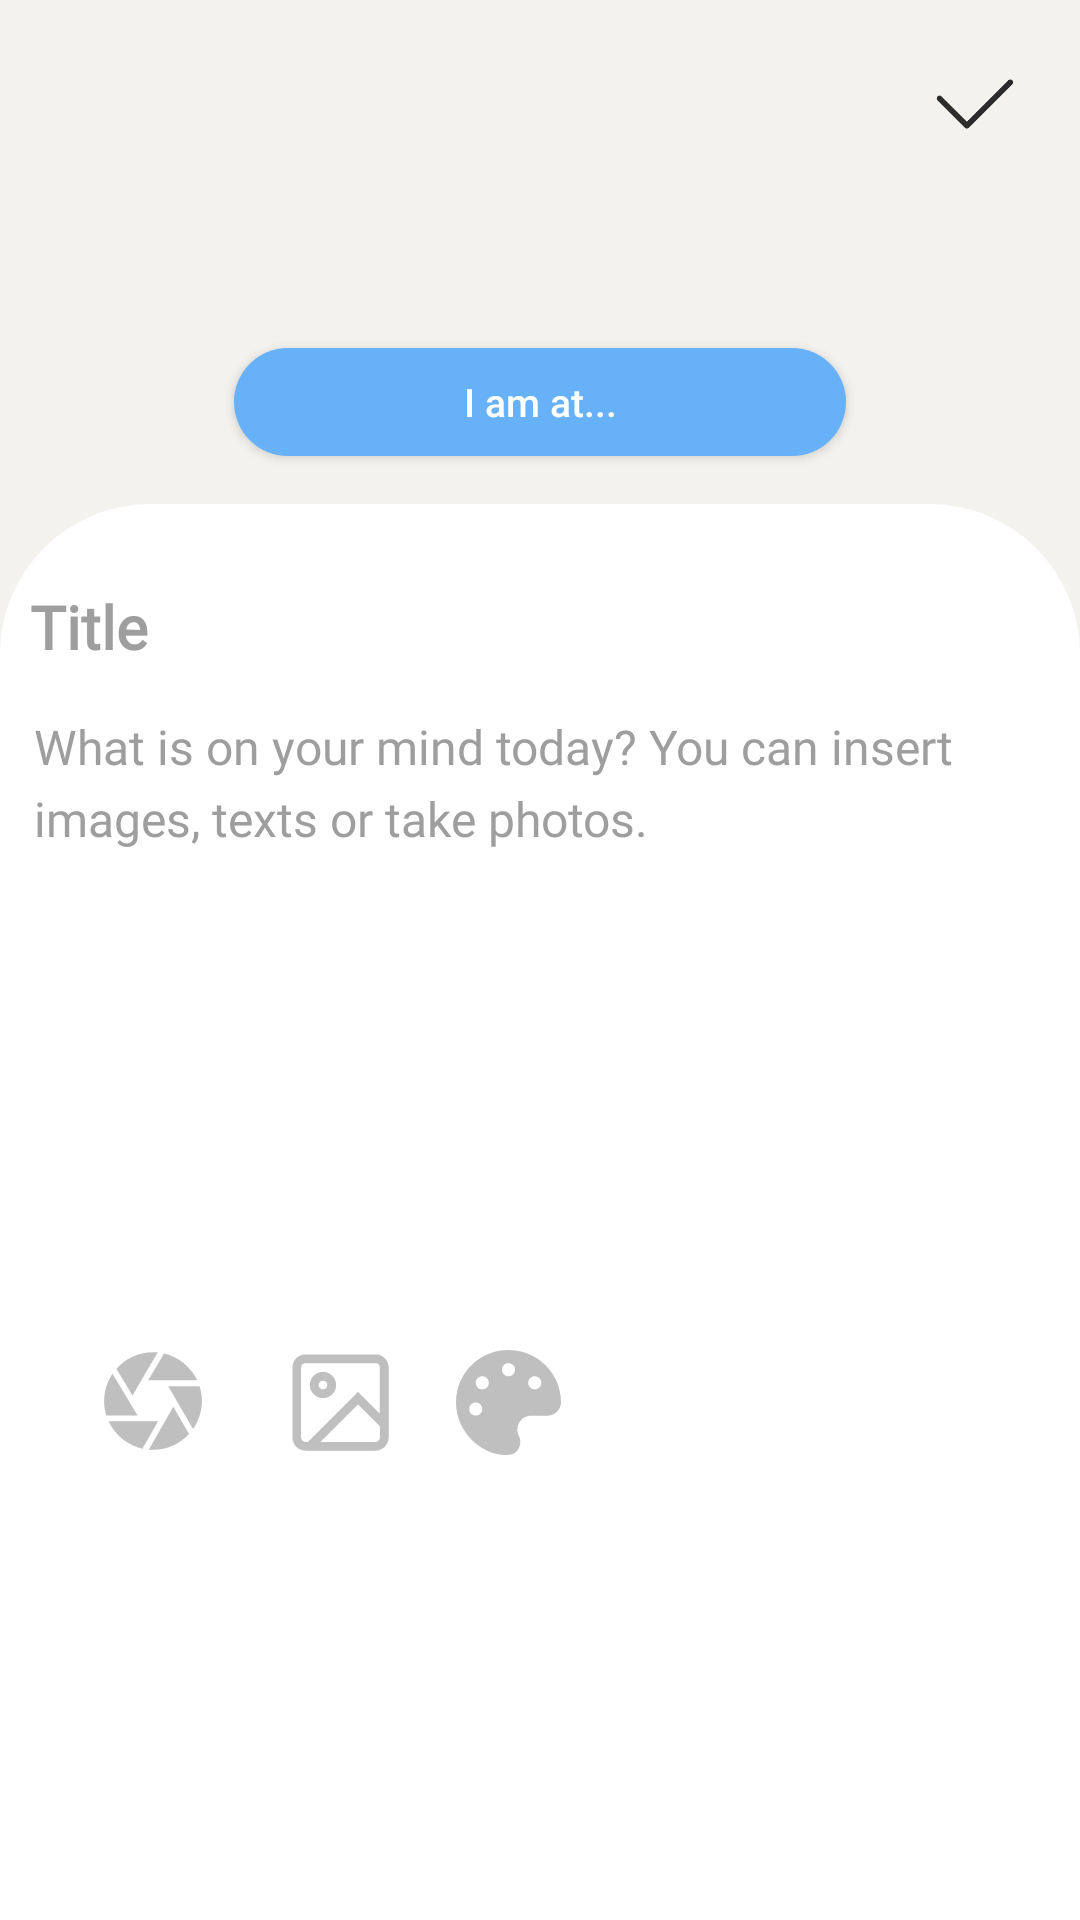

Icon click points for this 1080w x 1920h phone screenshot, format [x,y]:
camera: [153,1401]
palette: [508,1402]
tick: [974,104]
